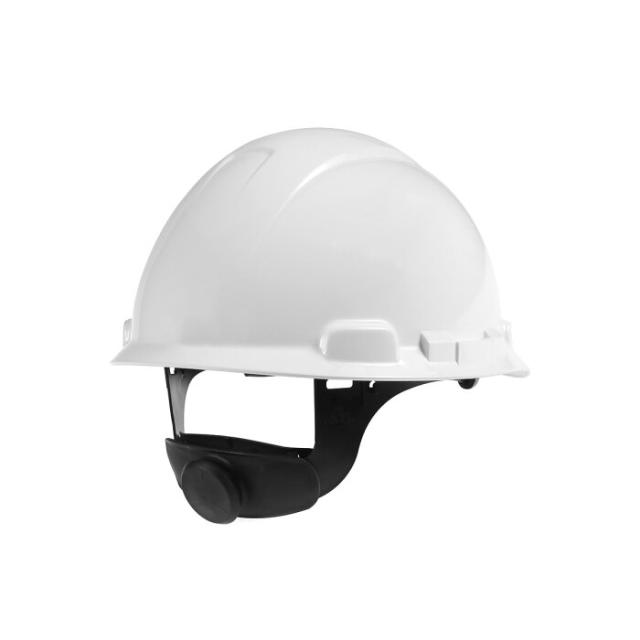illegal_helmet: (103, 117, 538, 531)
